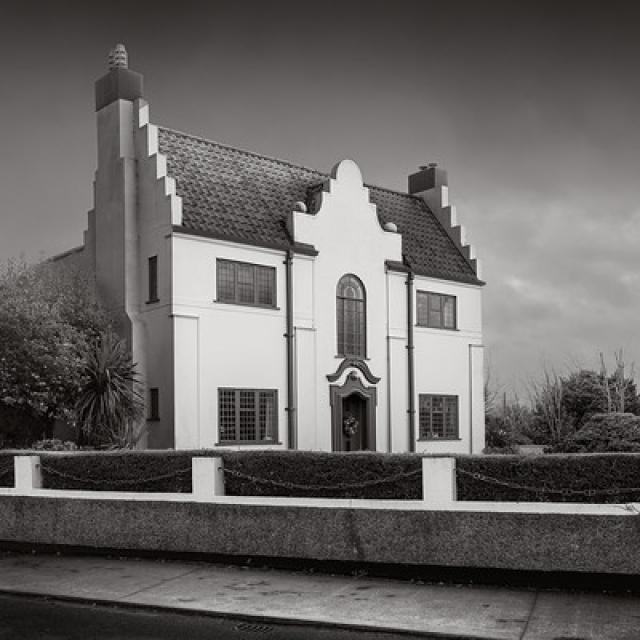Normal_building: (72, 39, 490, 460)
